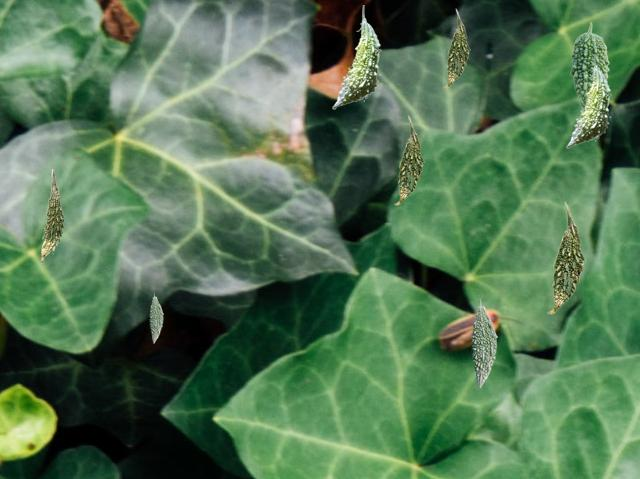ampalaya: (332, 5, 380, 108), (547, 201, 584, 313), (566, 54, 610, 147), (570, 22, 608, 108), (394, 115, 423, 204), (471, 298, 496, 387), (443, 8, 469, 87), (41, 169, 63, 262), (149, 292, 162, 342)
